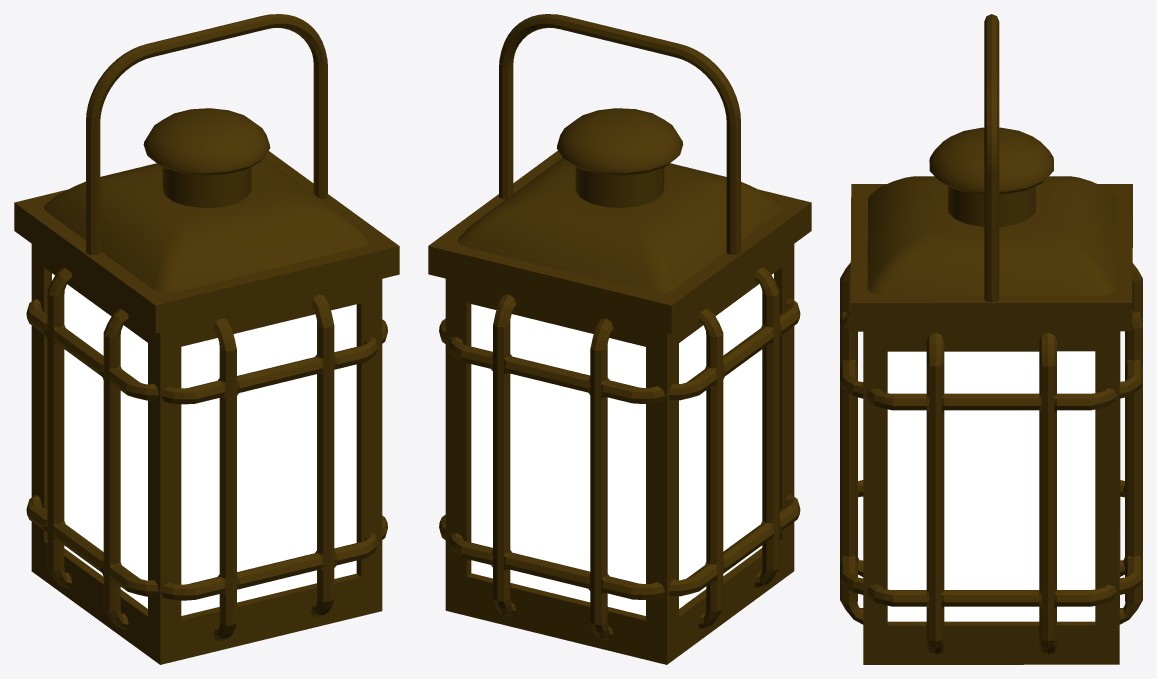
The model's file is Lantern.fbx.
3 renders of one model, left to right at view 1: azimuth 30°, elevation 25°; view 2: azimuth 150°, elevation 25°; view 3: azimuth 270°, elevation 25°, orthographic.
Visible parts, largest first — view 1: Lantern; view 2: Lantern; view 3: Lantern.
Part boxes in pixels (box(x1,y1,x2,y2)): Lantern: box(14, 14, 399, 664); Lantern: box(428, 14, 811, 664); Lantern: box(840, 14, 1142, 664).
Size of the model in its own units: 1.21 by 2.47 by 1.21.
